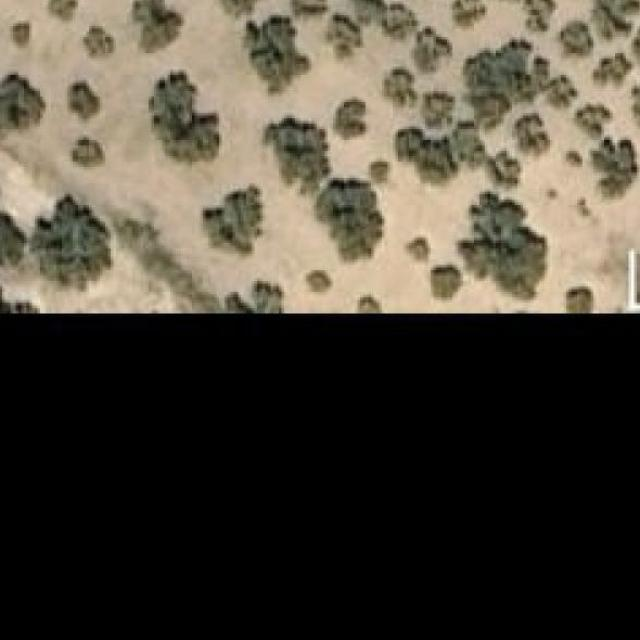Tree: (461, 194, 549, 294), (148, 73, 222, 174), (32, 194, 112, 284), (317, 178, 382, 261), (244, 15, 312, 94), (203, 183, 262, 260), (266, 116, 333, 181), (591, 140, 639, 200), (132, 0, 184, 53), (0, 73, 46, 132), (217, 0, 383, 15), (0, 262, 40, 312), (249, 273, 293, 316), (414, 26, 452, 75), (447, 122, 486, 168), (0, 207, 25, 277), (326, 18, 364, 63), (67, 80, 103, 127), (412, 140, 451, 183), (515, 116, 553, 160), (466, 91, 509, 129), (594, 0, 634, 40), (333, 97, 368, 142), (425, 262, 463, 300), (485, 151, 522, 190), (385, 66, 418, 108), (374, 1, 412, 37), (81, 24, 118, 60), (67, 138, 105, 170), (423, 91, 456, 127), (572, 105, 608, 138), (548, 78, 581, 111), (391, 121, 423, 155), (525, 0, 555, 35), (593, 58, 626, 86), (286, 0, 326, 23), (561, 23, 591, 53), (452, 0, 485, 26), (563, 286, 593, 312), (366, 156, 392, 186), (46, 0, 78, 23), (306, 270, 333, 295), (560, 148, 584, 176), (404, 238, 431, 262), (629, 84, 640, 130), (358, 295, 383, 311), (13, 24, 29, 45), (633, 26, 640, 67)
